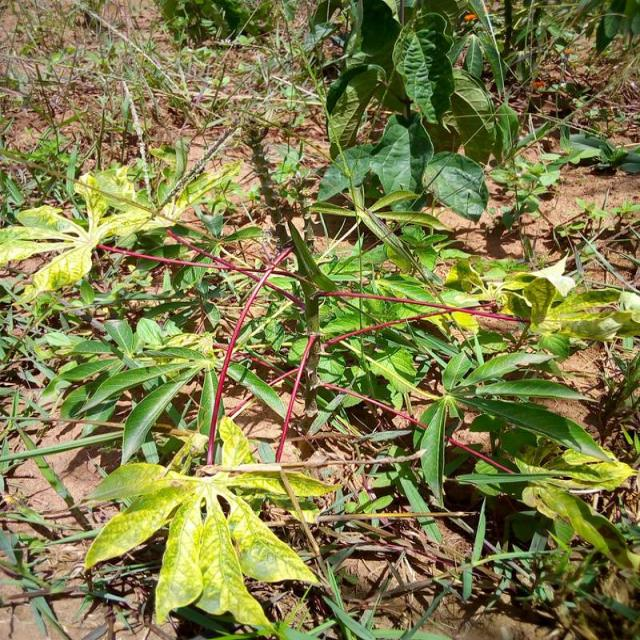Mosaico: (108, 445, 306, 609), (336, 257, 559, 355), (13, 174, 177, 301), (492, 417, 636, 538), (529, 267, 627, 343)
